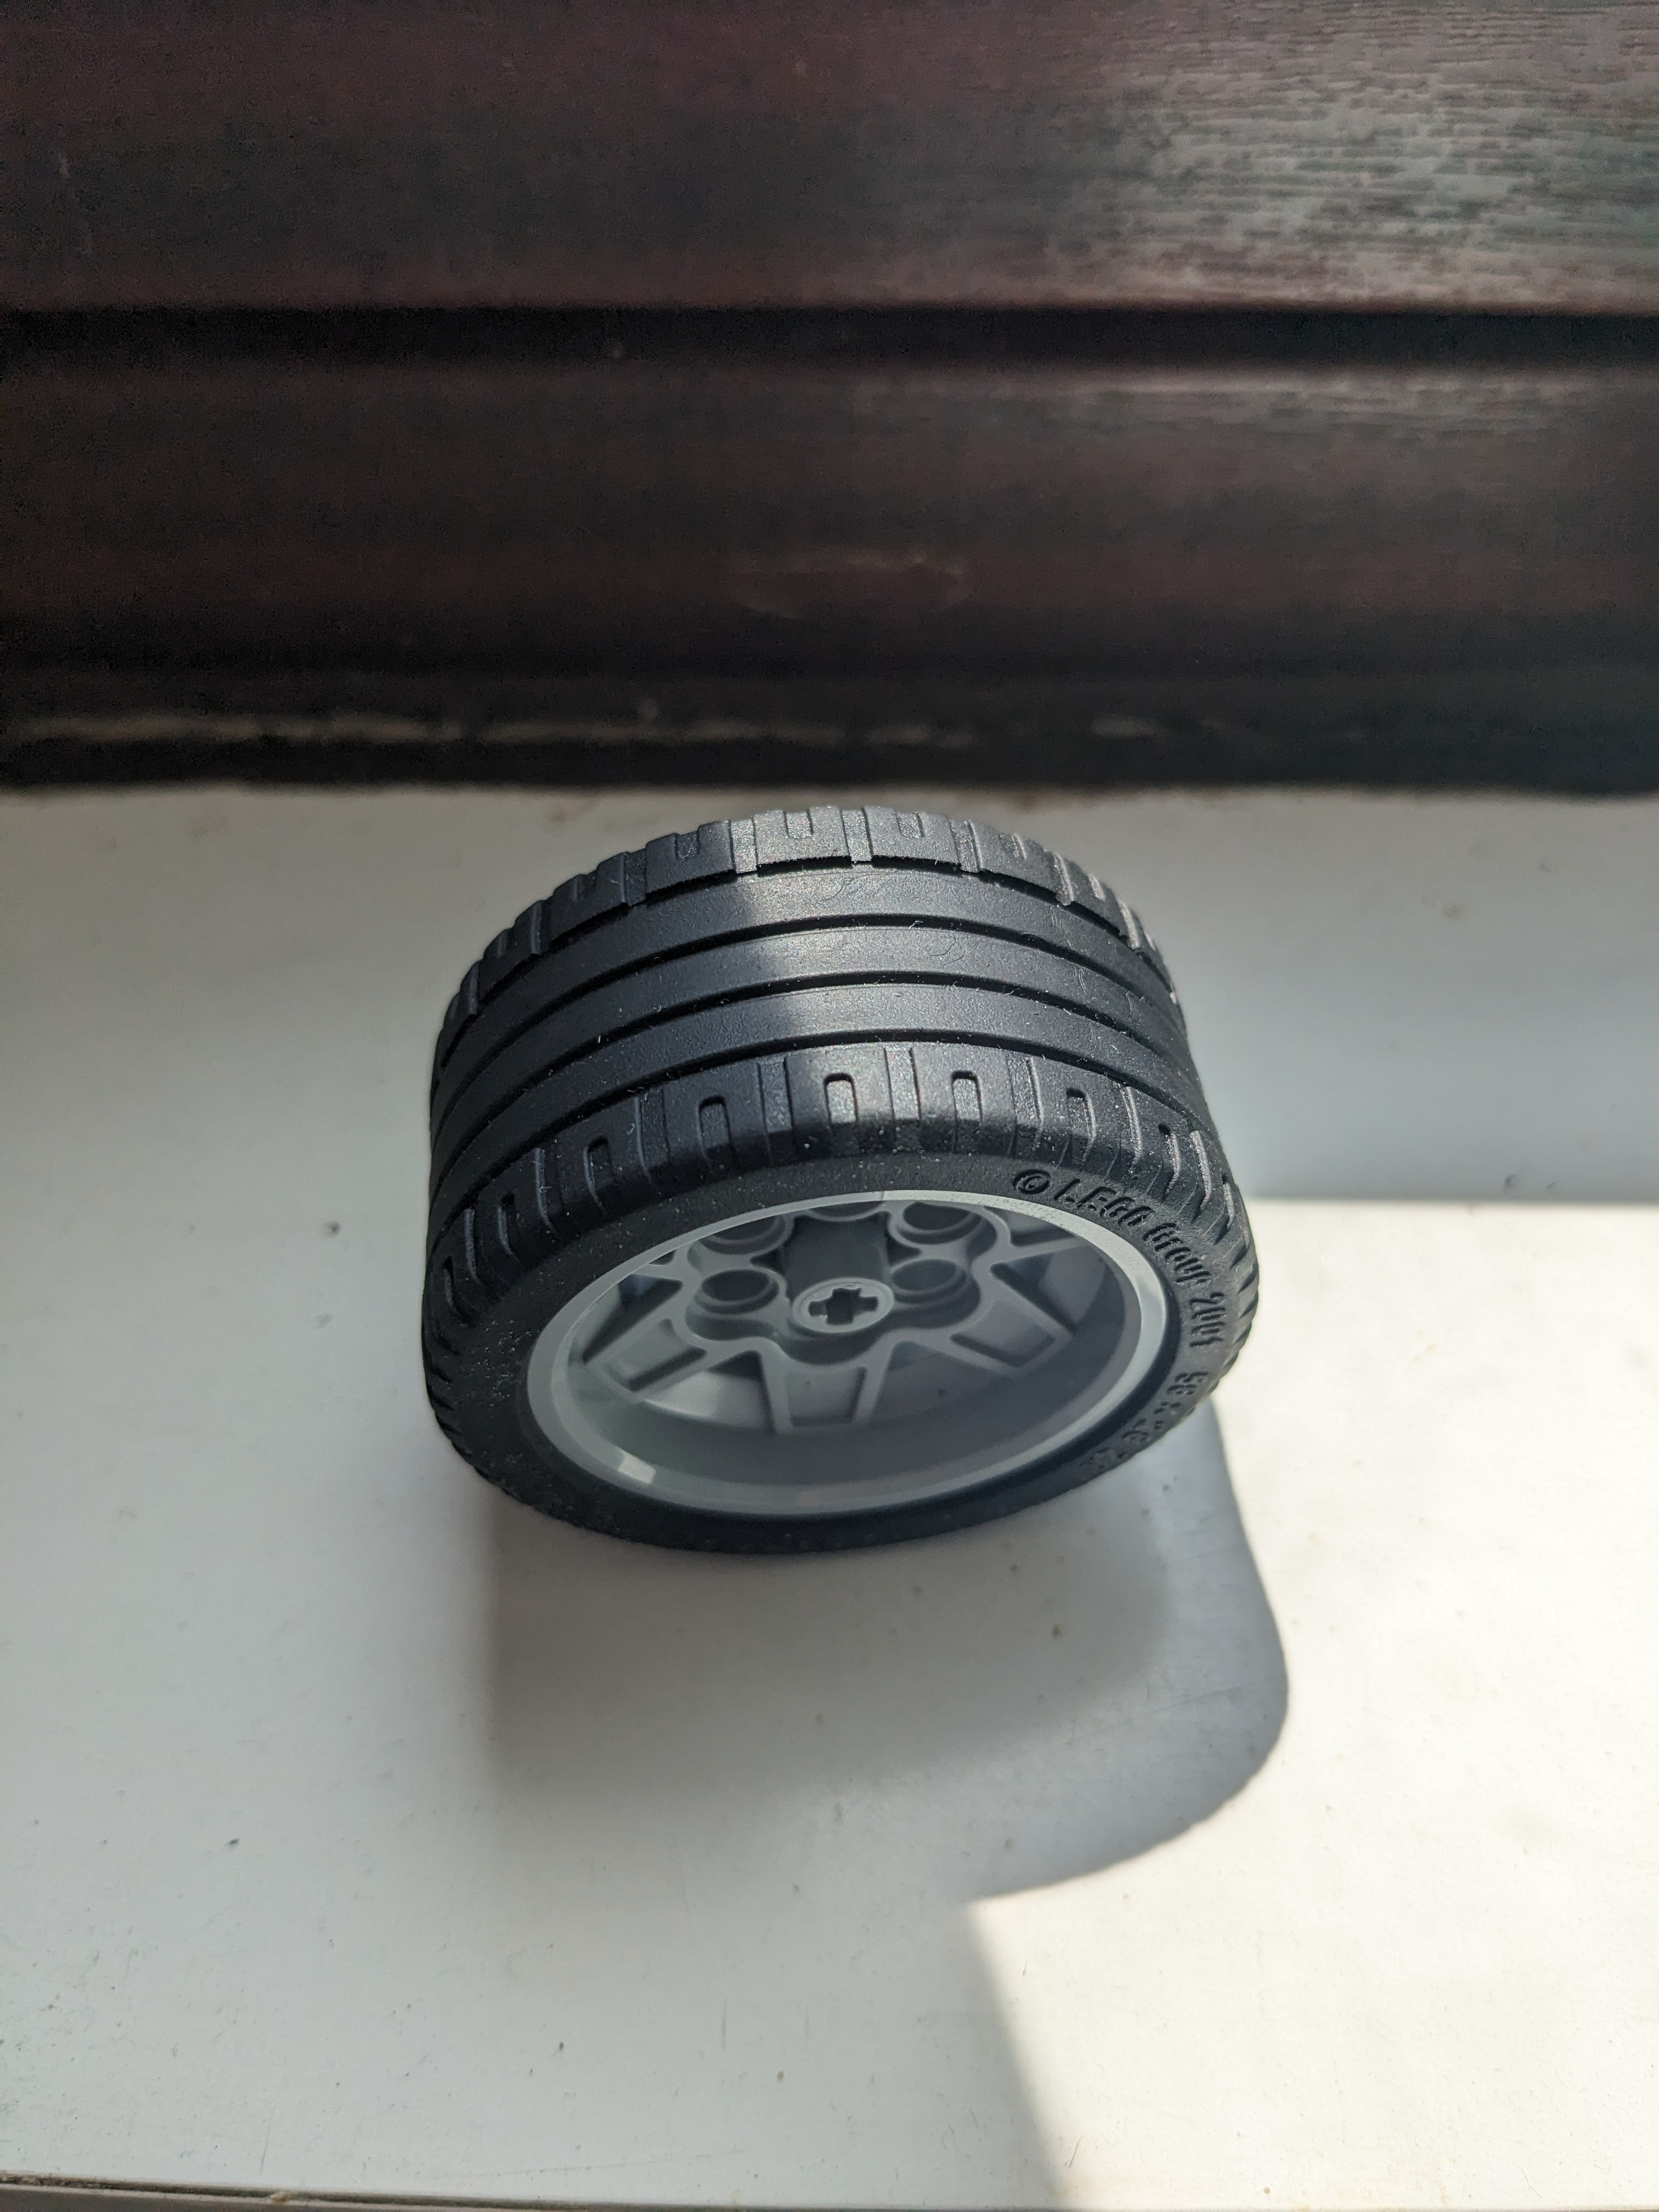Rad: (403, 784, 1272, 1578)
